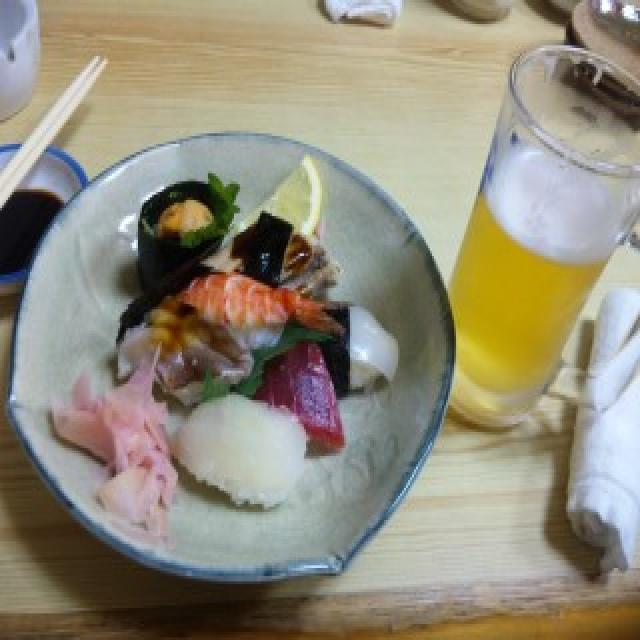Sushi: (76, 178, 377, 498)
